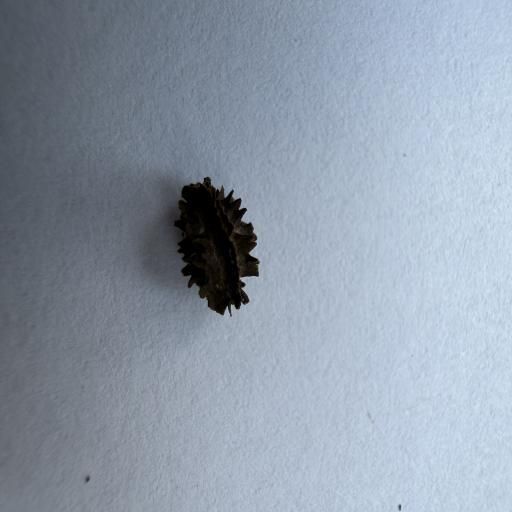papaya_seed: (166, 168, 273, 318)
